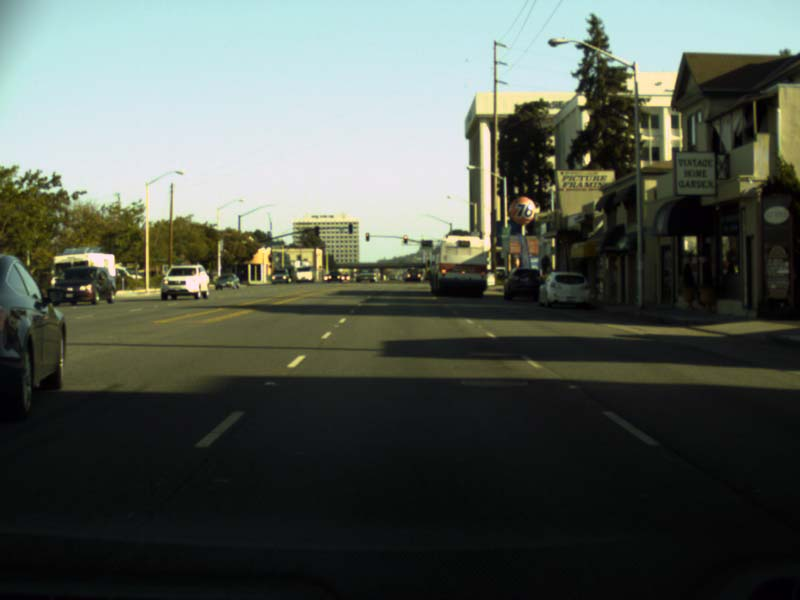Red: (402, 234, 407, 245), (365, 232, 369, 241)
